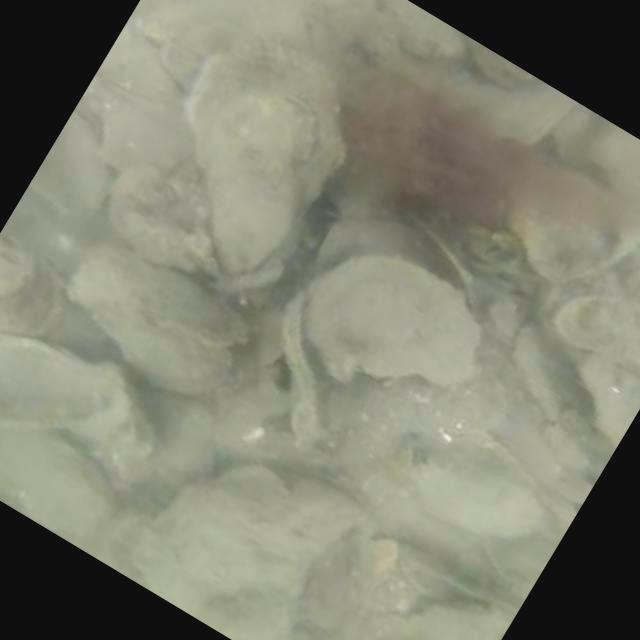Oyster-Closed: (445, 128, 640, 281), (127, 479, 326, 620), (187, 39, 344, 208), (300, 252, 482, 388), (64, 255, 232, 396), (203, 89, 324, 273), (100, 240, 248, 345), (402, 455, 553, 542), (0, 426, 116, 535), (444, 75, 575, 144), (147, 385, 216, 488), (292, 474, 361, 537), (218, 463, 289, 513)
